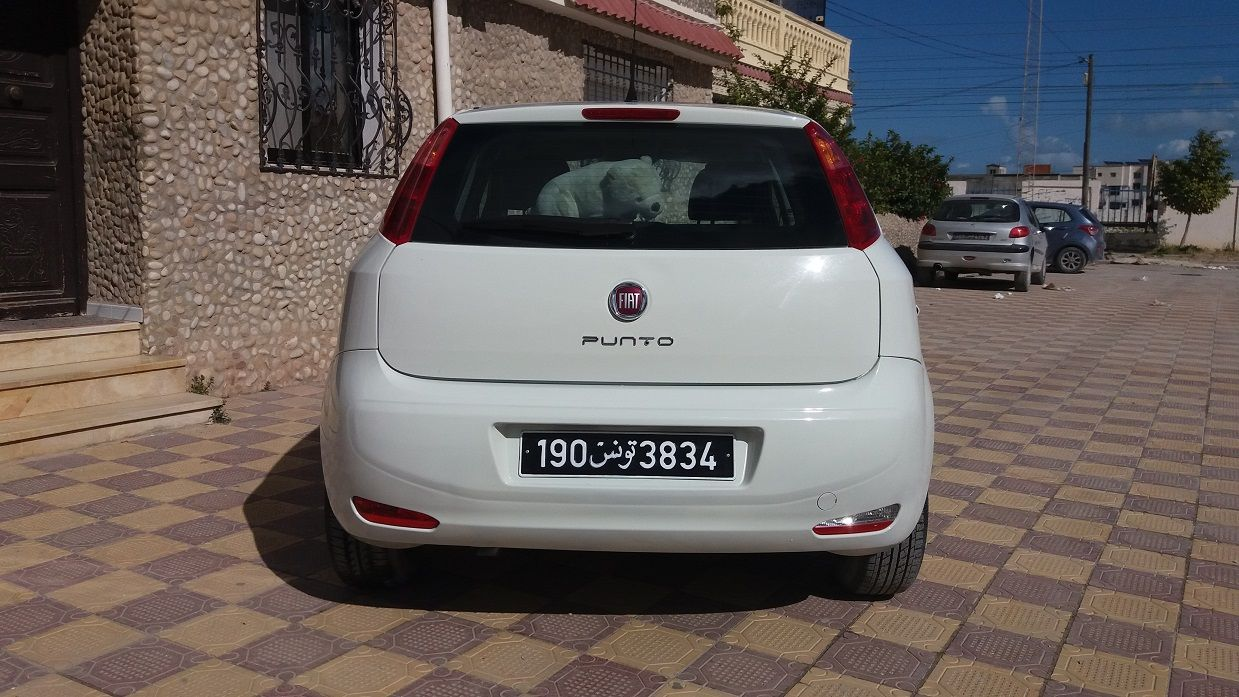LP: (519, 429, 737, 481)
